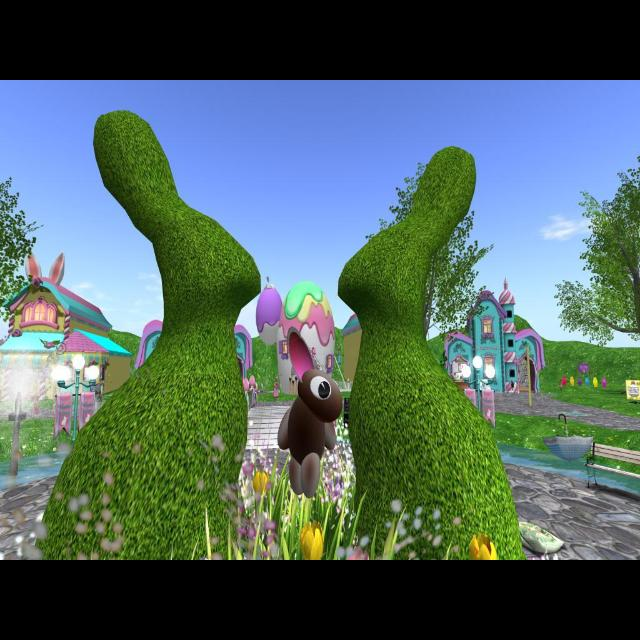Flower: (300, 520, 326, 560), (469, 535, 496, 559), (249, 472, 267, 493), (346, 546, 370, 558), (239, 461, 255, 475)
